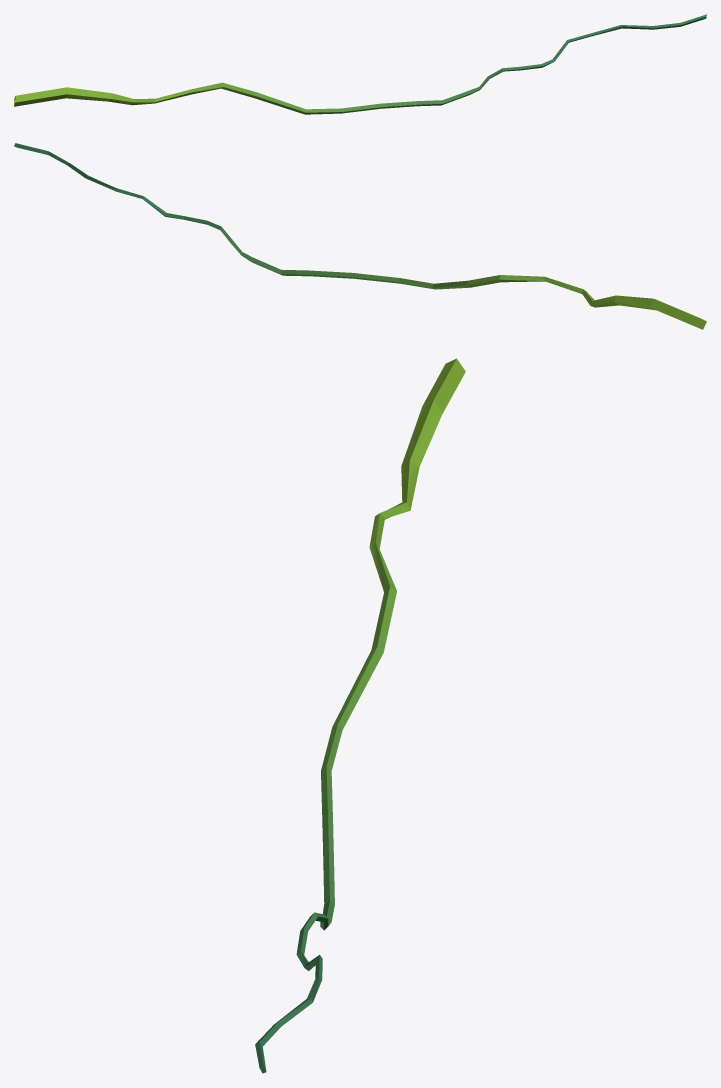
File: ZLP_Plant_Vine_B_4.FBX
The picture shows the model from 3 angles, top to bottom: view 1: azimuth 30°, elevation 25°; view 2: azimuth 150°, elevation 25°; view 3: azimuth 270°, elevation 25°; orthographic projection. The views are drawn at different scales.
Parts seen in each view (by area): view 1: ZLP_Plant_Vine_B_4; view 2: ZLP_Plant_Vine_B_4; view 3: ZLP_Plant_Vine_B_4.
Part boxes in pixels (left/top/right/bottom): ZLP_Plant_Vine_B_4: left=14, top=14, right=706, bottom=114; ZLP_Plant_Vine_B_4: left=14, top=143, right=706, bottom=329; ZLP_Plant_Vine_B_4: left=255, top=358, right=465, bottom=1073.
Size of the model in its own units: 1137 by 141 by 160.
